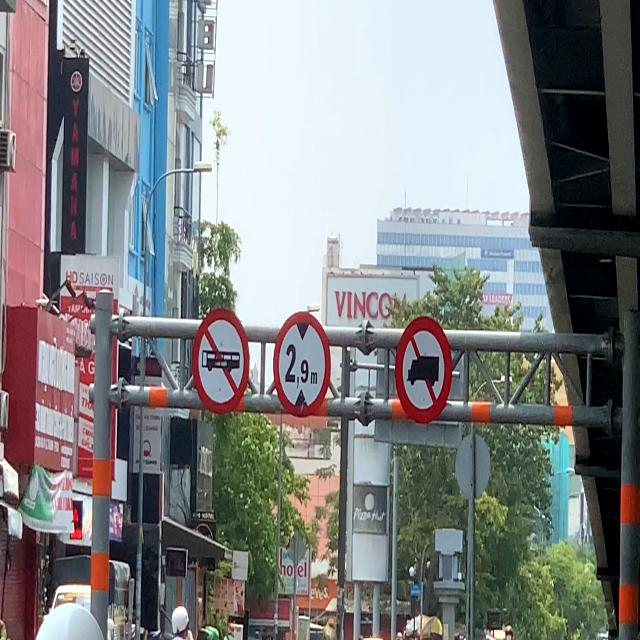P.106a: (394, 315, 453, 426)
P.117: (273, 311, 331, 418)
